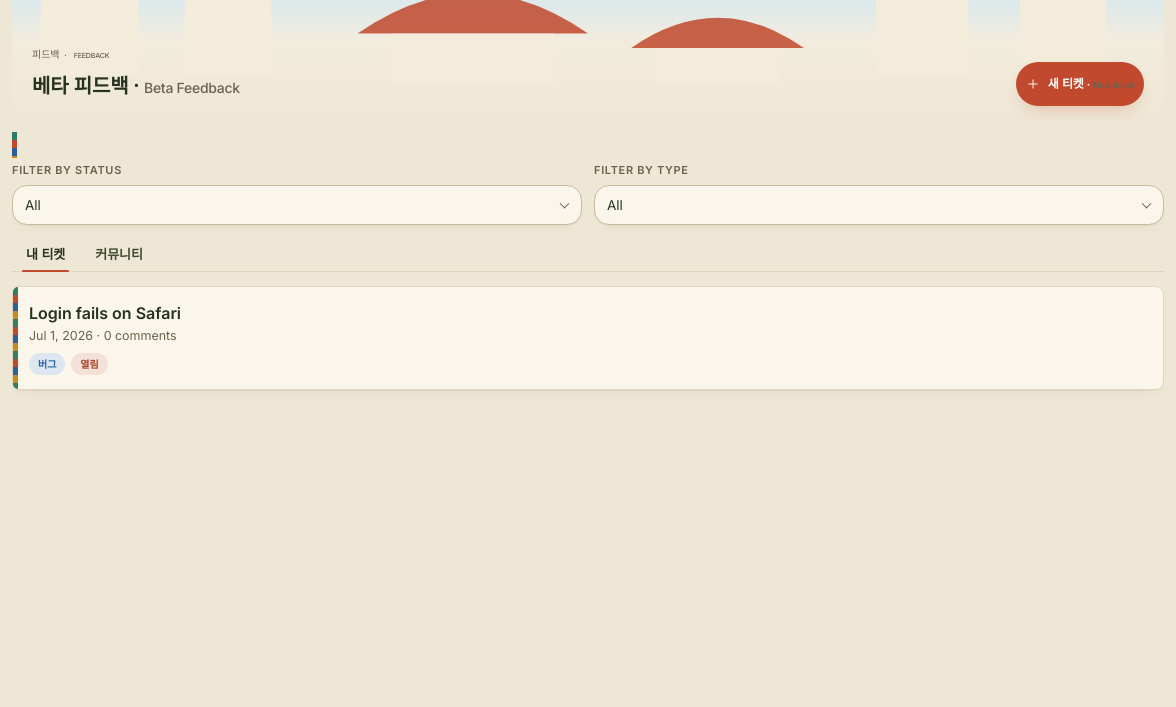
Scenario: Tickets — ticket detail + editing › a stale PATCH (409) reloads the fresh row and shows a friendly recovery notice
Expected: the text "Login fails on Safari" is shown, [29, 303, 181, 323]
Click the button "Login fails on Safari Jul 1, 2026 · 0 comments 버그 열림" at (105, 313), box [13, 287, 1163, 390]
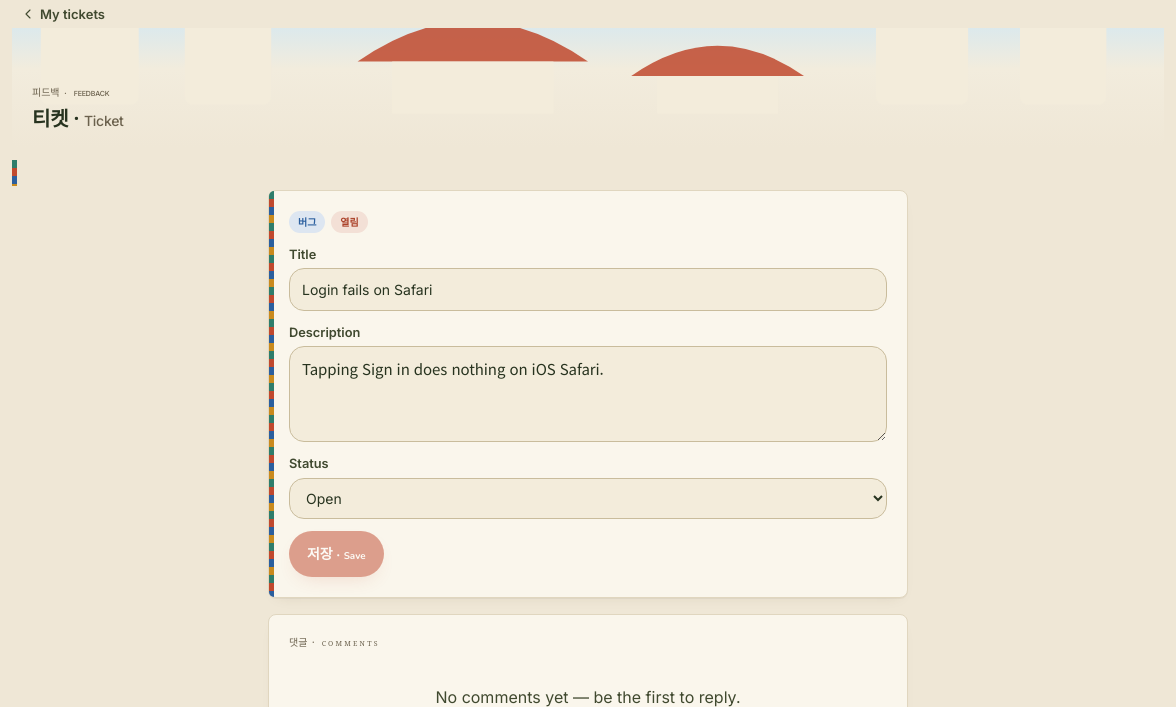
Replace the text in the field labelled "Title" with "My attempted rename" at (588, 290), box [289, 268, 887, 311]
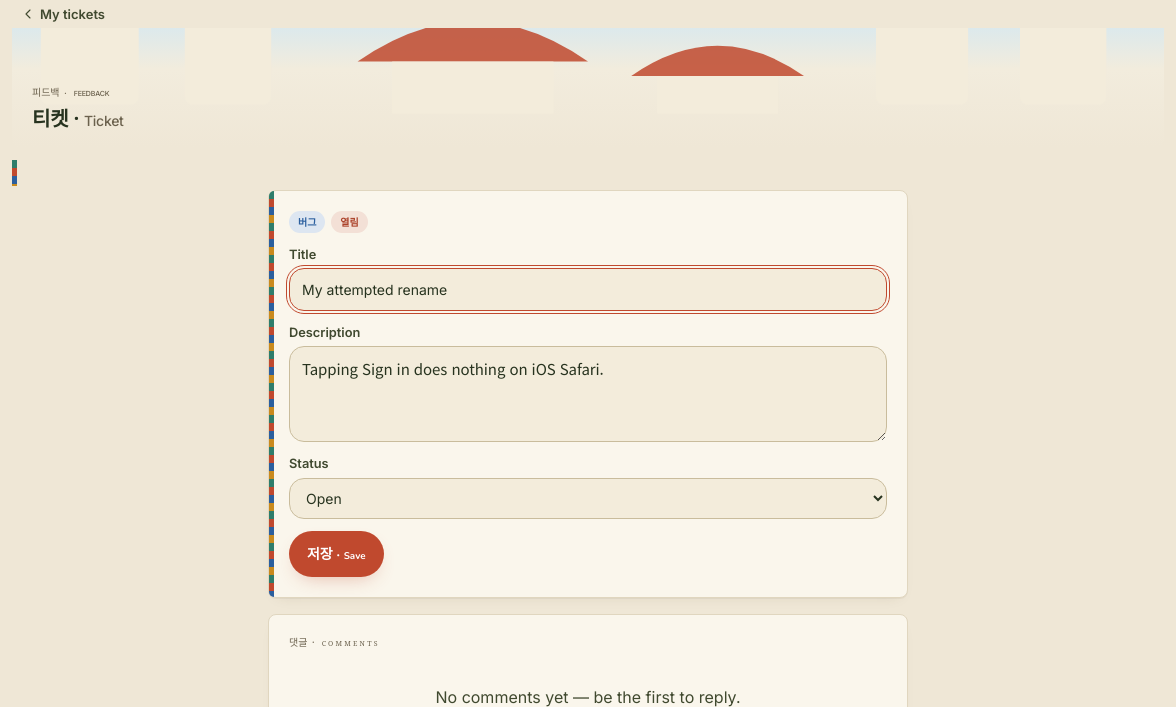
Click the button "저장 · Save" at (336, 554), box [289, 531, 384, 577]
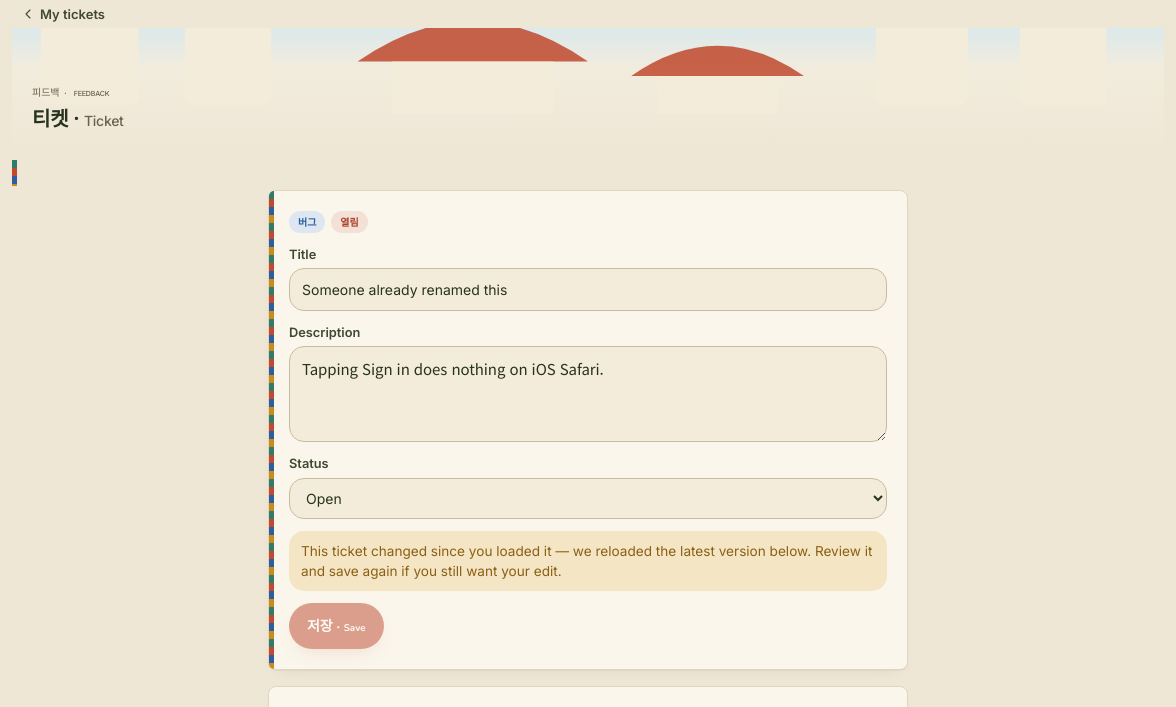
Expected: the text "This ticket changed since you loaded it" is shown, [301, 543, 872, 579]
Expected: the field labelled "Title" holds "Someone already renamed this", [289, 268, 887, 311]
